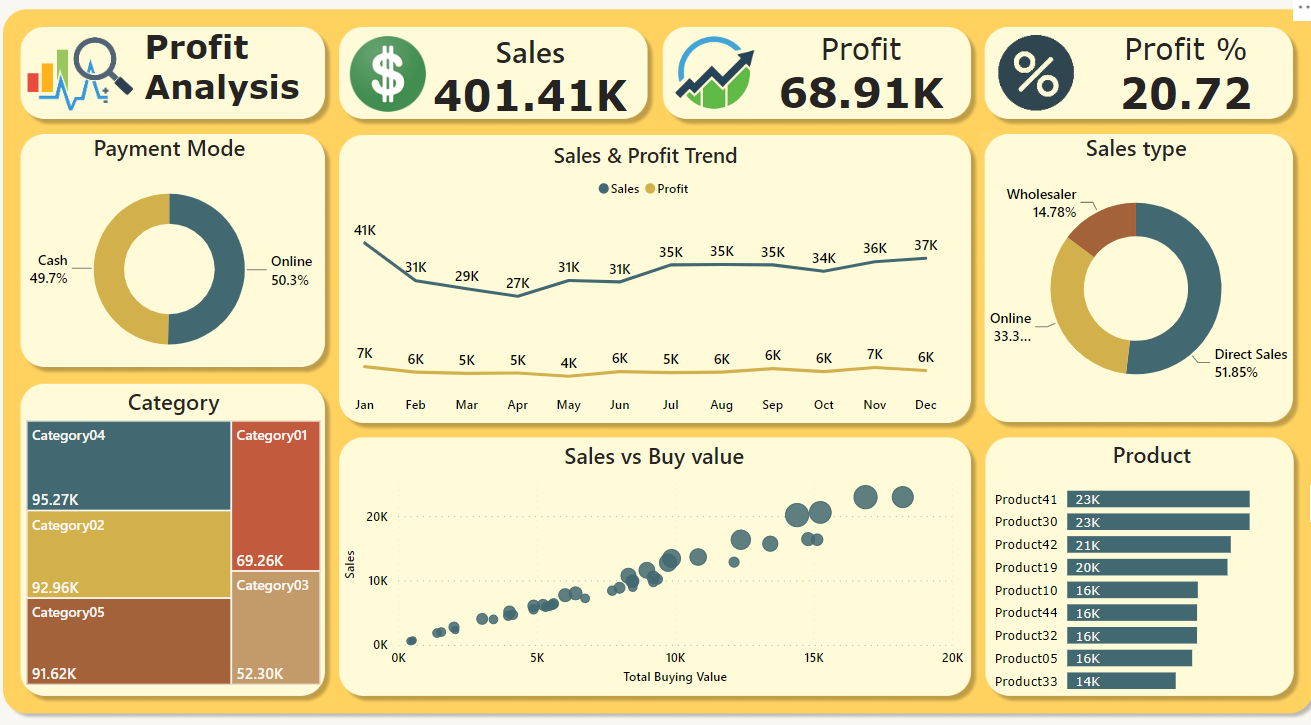

Layout of this report page (visuals, bound fields, positions):
{"tool":"powerbi","page":{"name":"Page 2","canvas":[1280,720],"ordinal":0},"visuals":[{"type":"image","box":[0,0,1280,720],"z":0},{"type":"card","title":"Sales ","fields":{"Values":["Sum(InputData.totalsell)"]},"box":[387.1,37.1,252.9,85.7],"z":1000},{"type":"card","title":"Profit %","fields":{"Values":["InputData.Profit %"]},"box":[1041.4,37.1,208.6,85.7],"z":2000},{"type":"card","title":"Profit ","fields":{"Values":["InputData.Profit"]},"box":[730,37.1,205.7,82.9],"z":3000},{"type":"lineChart","title":"Sales & Profit Trend","fields":{"Category":["InputData.Month Name"],"Y":["Sum(InputData.Total Selling Value)","InputData.Profit"]},"box":[329.2,144.7,591,272.6],"z":4000},{"type":"barChart","title":"Product","fields":{"Category":["InputData.MasterData.PRODUCT"],"Y":["Sum(InputData.Total Selling Value)"]},"box":[947.1,431.4,332.9,257.1],"z":5000},{"type":"donutChart","title":"Sales type","fields":{"Category":["InputData.SALE TYPE"],"Y":["Sum(InputData.Total Selling Value)"]},"box":[947.1,135.7,302.9,272.9],"z":6000},{"type":"donutChart","title":"Payment Mode","fields":{"Y":["Sum(InputData.Total Selling Value)"],"Category":["InputData.PAYMENT MODE"]},"box":[14.3,135.7,301.4,235.7],"z":7000},{"type":"treemap","title":"Category ","fields":{"Group":["InputData.MasterData.CATEGORY"],"Values":["Sum(InputData.Total Selling Value)"]},"box":[22.9,381.1,293.1,293.1],"z":8000},{"type":"scatterChart","title":"Sales vs Buy value","fields":{"X":["Sum(InputData.Total Buying Value)"],"Y":["Sum(InputData.Total Selling Value)"],"Category":["MasterData.PRODUCT ID"],"Size":["InputData.Profit"]},"box":[328.8,432.7,607.5,240.8],"z":9000},{"type":"textbox","box":[135.7,28.6,300,102.9],"z":10000},{"type":"image","box":[22.9,24.3,112.9,111.4],"z":11000},{"type":"image","box":[621.1,9.6,139.9,137.5],"z":12000},{"type":"image","box":[315.7,14.3,120,131.4],"z":13000},{"type":"image","box":[935.7,14.3,131.4,130],"z":14000}]}

Visuals, with their boxes in screenshot pixels (x1, y1, x2, y2), scaled from the page's 1280x720 canvas onto the 1311x725 screenshot:
image: select_region(0, 0, 1310, 724)
"Sales " card: select_region(396, 37, 656, 124)
"Profit %" card: select_region(1067, 37, 1280, 124)
"Profit " card: select_region(748, 37, 958, 121)
"Sales & Profit Trend" lineChart: select_region(337, 146, 942, 420)
"Product" barChart: select_region(970, 434, 1310, 693)
"Sales type" donutChart: select_region(970, 137, 1280, 411)
"Payment Mode" donutChart: select_region(15, 137, 323, 374)
"Category " treemap: select_region(23, 384, 324, 679)
"Sales vs Buy value" scatterChart: select_region(337, 436, 959, 678)
textbox: select_region(139, 29, 446, 132)
image: select_region(23, 24, 139, 137)
image: select_region(636, 10, 779, 148)
image: select_region(323, 14, 446, 147)
image: select_region(958, 14, 1093, 145)
